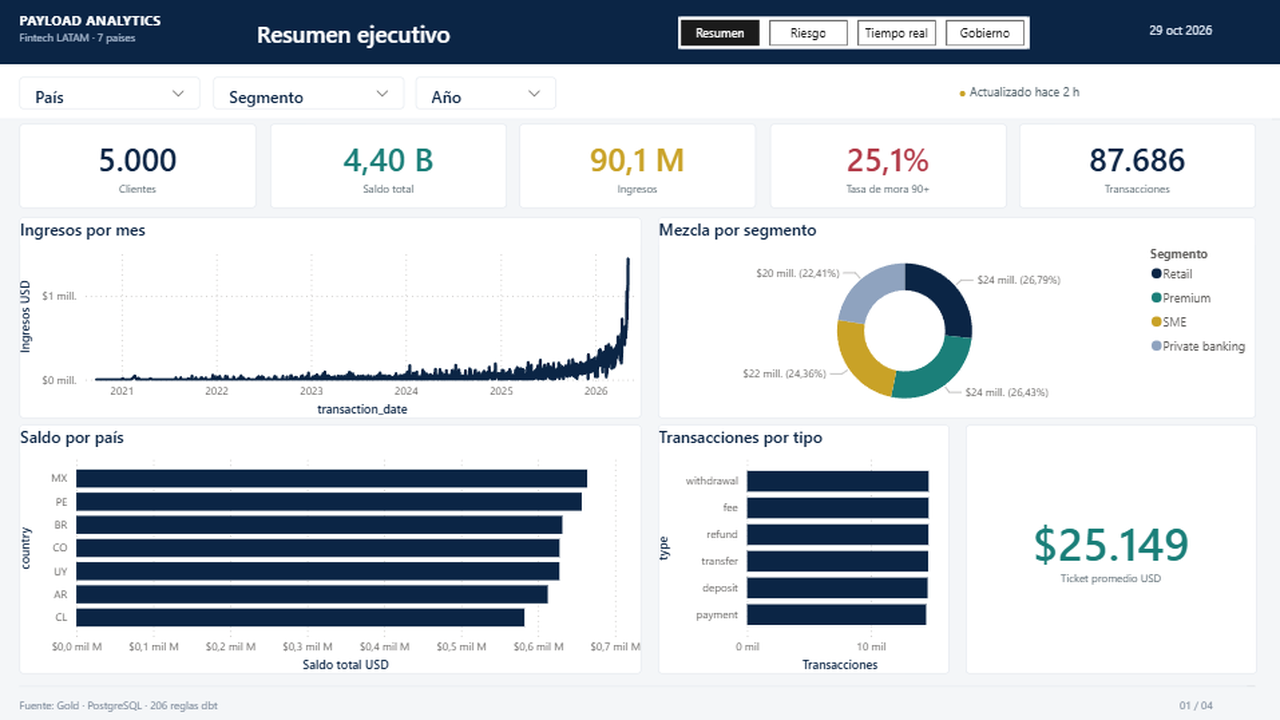

Layout of this report page (visuals, bound fields, positions):
{"tool":"powerbi","page":{"name":"Resumen","canvas":[1280,720],"ordinal":0},"visuals":[{"type":"textbox","box":[0,0,1280,720],"z":0},{"type":"textbox","box":[0,64,1280,56],"z":100},{"type":"textbox","box":[24,684,1232,1],"z":100},{"type":"textbox","box":[0,119,1280,1],"z":101},{"type":"slicer","fields":{"Values":["gold dim_customer.country"]},"box":[24,77,180,32],"z":200},{"type":"slicer","fields":{"Values":["gold dim_customer.customer_segment"]},"box":[216,77,190,32],"z":200},{"type":"slicer","fields":{"Values":["gold dim_date.year"]},"box":[418,77,140,32],"z":200},{"type":"card","fields":{"Values":["Medidas.Clientes"]},"box":[24,124,236,84],"z":200},{"type":"card","fields":{"Values":["Medidas.Saldo total"]},"box":[273,124,236,84],"z":200},{"type":"card","fields":{"Values":["Medidas.Ingresos"]},"box":[522,124,236,84],"z":200},{"type":"card","fields":{"Values":["Medidas.Tasa de mora 90+"]},"box":[771,124,236,84],"z":200},{"type":"card","fields":{"Values":["Medidas.Transacciones"]},"box":[1020,124,236,84],"z":200},{"type":"lineChart","title":"Ingresos por mes","fields":{"Category":["gold fct_transactions.transaction_date"],"Y":["Medidas.Ingresos USD"]},"box":[24,216,620,200],"z":200},{"type":"donutChart","title":"Mezcla por segmento","fields":{"Category":["gold dim_customer.Segmento"],"Y":["Medidas.Ingresos USD"]},"box":[660,216,596,200],"z":200},{"type":"clusteredBarChart","title":"Saldo por país","fields":{"Category":["gold dim_account.country"],"Y":["Medidas.Saldo total USD"]},"box":[24,424,620,248],"z":200},{"type":"clusteredBarChart","title":"Transacciones por tipo","fields":{"Category":["gold fct_transactions.type"],"Y":["Medidas.Transacciones"]},"box":[660,424,290,248],"z":200},{"type":"card","fields":{"Values":["Medidas.Ticket promedio USD"]},"box":[966,424,290,248],"z":200},{"type":"textbox","box":[0,0,1280,64],"z":1000},{"type":"textbox","box":[680,16,350,32],"z":1090},{"type":"textbox","box":[24,10,230,44],"z":1100},{"type":"pageNavigator","box":[680,16,350,32],"z":1100},{"type":"textbox","box":[260,18,430,30],"z":1100},{"type":"textbox","box":[1150,21,106,22],"z":1100},{"type":"textbox","box":[960,84,296,20],"z":1100},{"type":"textbox","box":[24,694,900,16],"z":1100},{"type":"textbox","box":[1180,694,76,16],"z":1100},{"type":"textbox","box":[0,0,4,64],"z":1200}]}

Visuals, with their boxes in screenshot pixels (x1, y1, x2, y2), scaled from the page's 1280x720 canvas onto the 1280x720 screenshot:
textbox: bbox=[0, 0, 1279, 719]
textbox: bbox=[0, 64, 1279, 120]
textbox: bbox=[24, 684, 1256, 685]
textbox: bbox=[0, 119, 1279, 120]
slicer - gold dim_customer.country: bbox=[24, 77, 204, 109]
slicer - gold dim_customer.customer_segment: bbox=[216, 77, 406, 109]
slicer - gold dim_date.year: bbox=[418, 77, 558, 109]
card - Medidas.Clientes: bbox=[24, 124, 260, 208]
card - Medidas.Saldo total: bbox=[273, 124, 509, 208]
card - Medidas.Ingresos: bbox=[522, 124, 758, 208]
card - Medidas.Tasa de mora 90+: bbox=[771, 124, 1007, 208]
card - Medidas.Transacciones: bbox=[1020, 124, 1256, 208]
"Ingresos por mes" lineChart: bbox=[24, 216, 644, 416]
"Mezcla por segmento" donutChart: bbox=[660, 216, 1256, 416]
"Saldo por país" clusteredBarChart: bbox=[24, 424, 644, 672]
"Transacciones por tipo" clusteredBarChart: bbox=[660, 424, 950, 672]
card - Medidas.Ticket promedio USD: bbox=[966, 424, 1256, 672]
textbox: bbox=[0, 0, 1279, 64]
textbox: bbox=[680, 16, 1030, 48]
textbox: bbox=[24, 10, 254, 54]
pageNavigator: bbox=[680, 16, 1030, 48]
textbox: bbox=[260, 18, 690, 48]
textbox: bbox=[1150, 21, 1256, 43]
textbox: bbox=[960, 84, 1256, 104]
textbox: bbox=[24, 694, 924, 710]
textbox: bbox=[1180, 694, 1256, 710]
textbox: bbox=[0, 0, 4, 64]
